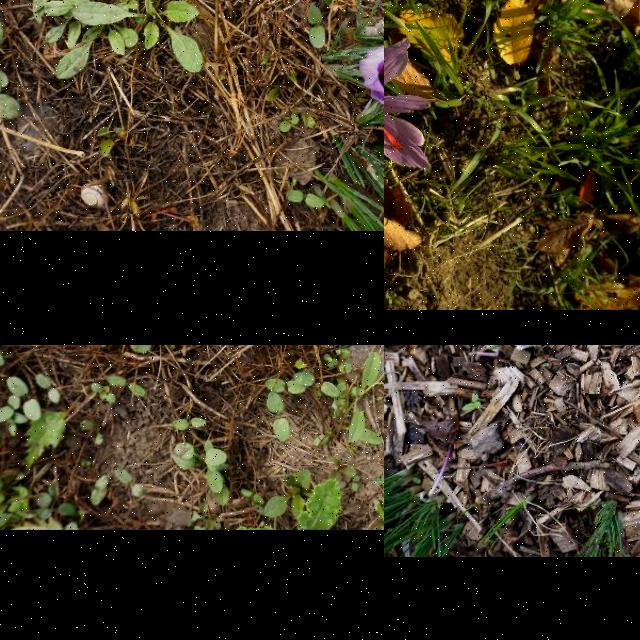flower: (384, 39, 432, 196), (361, 43, 384, 112)
